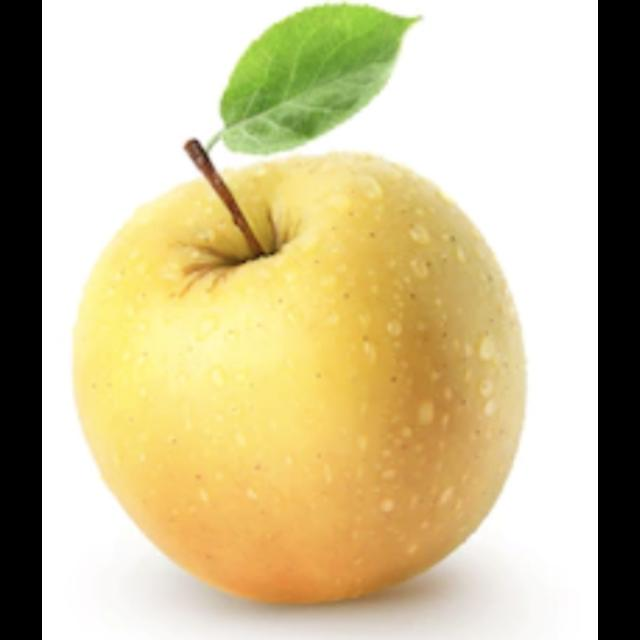Apel Segar: (63, 146, 534, 614)
